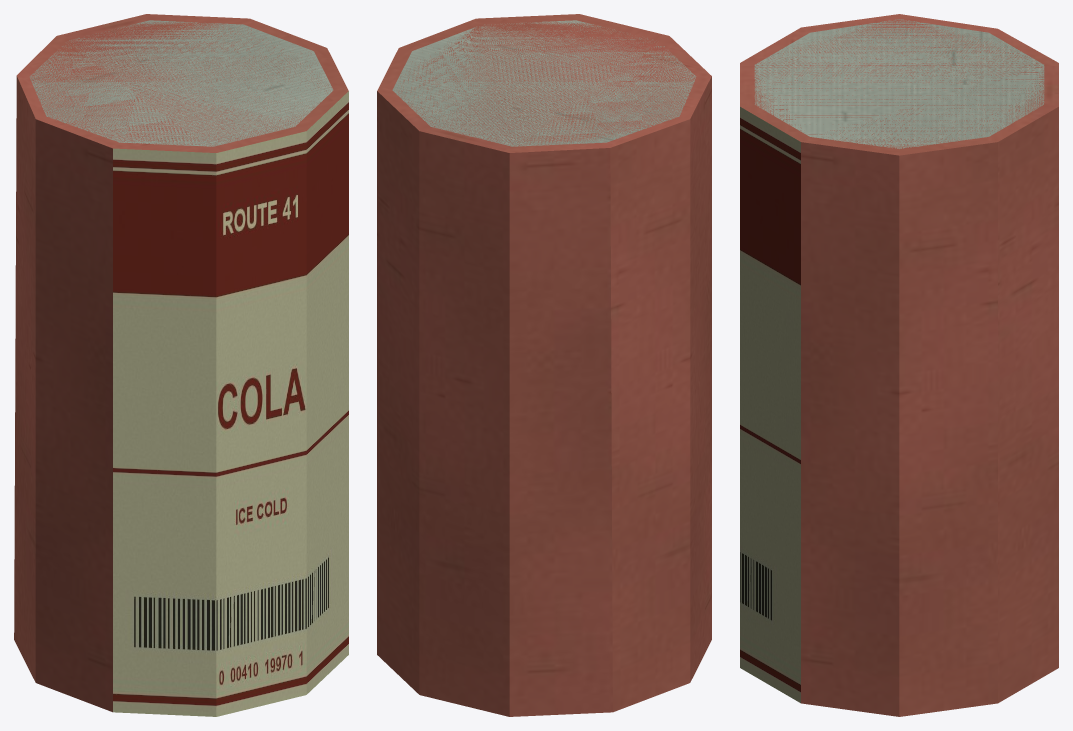
Rendered from sodacan_v1.glb.
3 views of the same model, side by side, from view 1: azimuth 30°, elevation 25°; view 2: azimuth 150°, elevation 25°; view 3: azimuth 270°, elevation 25° (orthographic).
Visible parts, largest first — view 1: Variant_sodacan_1; view 2: Variant_sodacan_1; view 3: Variant_sodacan_1.
Part boxes in pixels (x1=…): Variant_sodacan_1: x1=14, y1=14, x2=348, y2=716; Variant_sodacan_1: x1=377, y1=14, x2=711, y2=716; Variant_sodacan_1: x1=740, y1=14, x2=1058, y2=716.
Bounding box in the file's own units: 0.066 × 0.122 × 0.0628.
Materials: 3 (3 with a texture image).
